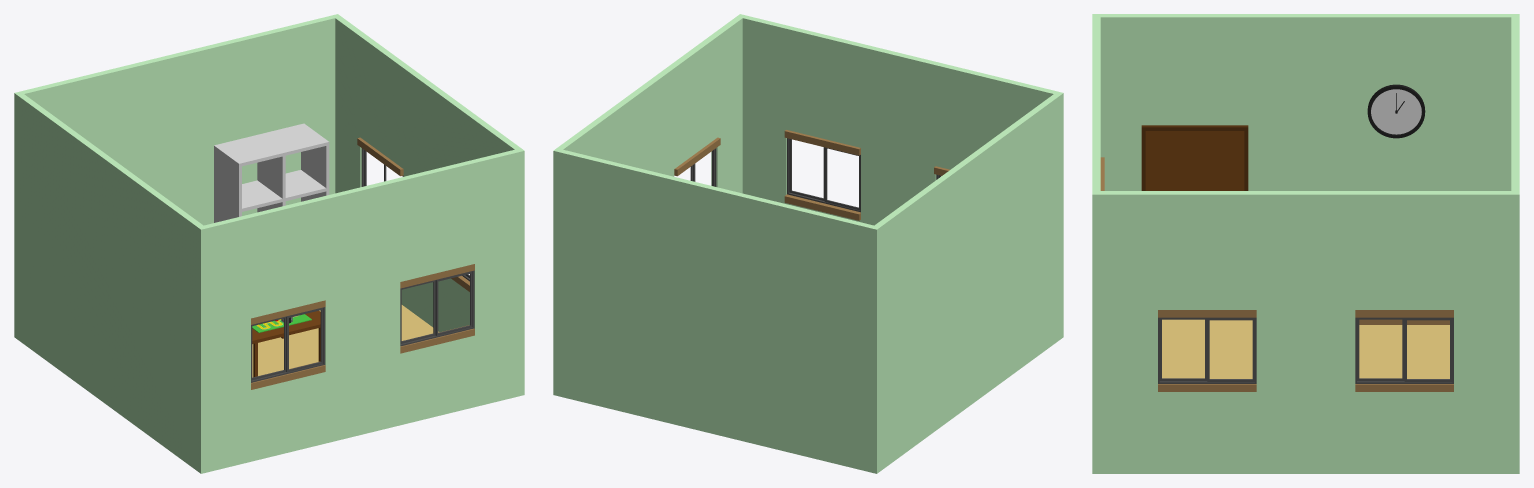
Rendered from stage1.fbx.
3 views of the same model, side by side, from view 1: azimuth 30°, elevation 25°; view 2: azimuth 150°, elevation 25°; view 3: azimuth 270°, elevation 25° (orthographic). The views are drawn at different scales.
Parts seen in each view (by area): view 1: room1; view 2: room1; view 3: room1.
Part boxes in pixels (left/top/right/bottom): room1: left=14, top=14, right=524, bottom=473; room1: left=553, top=14, right=1063, bottom=473; room1: left=1092, top=14, right=1519, bottom=473.
Bounding box in the file's own units: 5200 × 3750 × 5200.
